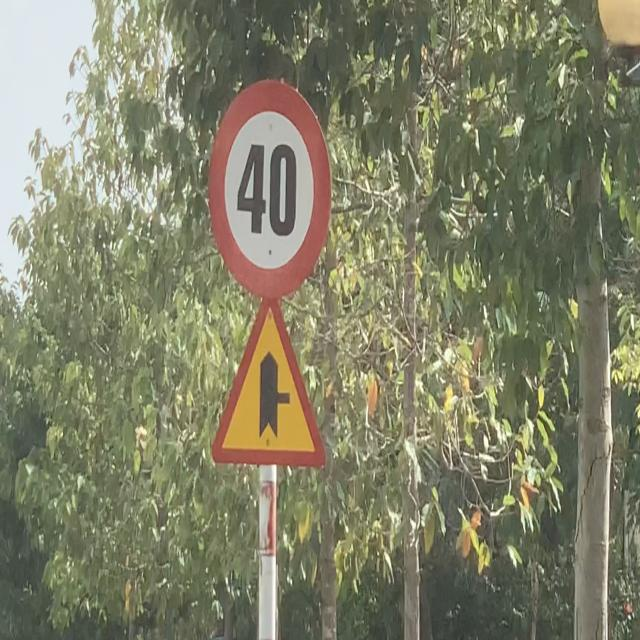Giao voi duong khong uu tien: (207, 289, 329, 472)
Toc do toi da: (208, 58, 332, 300)
